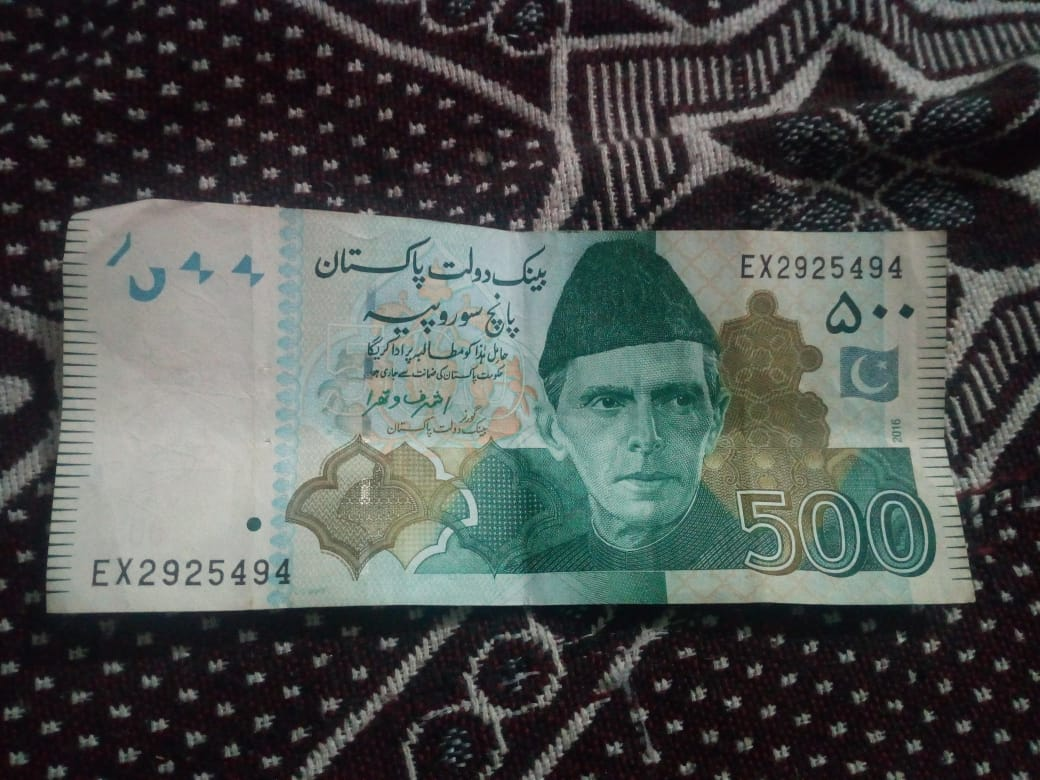500 rupee: (44, 191, 981, 622)
